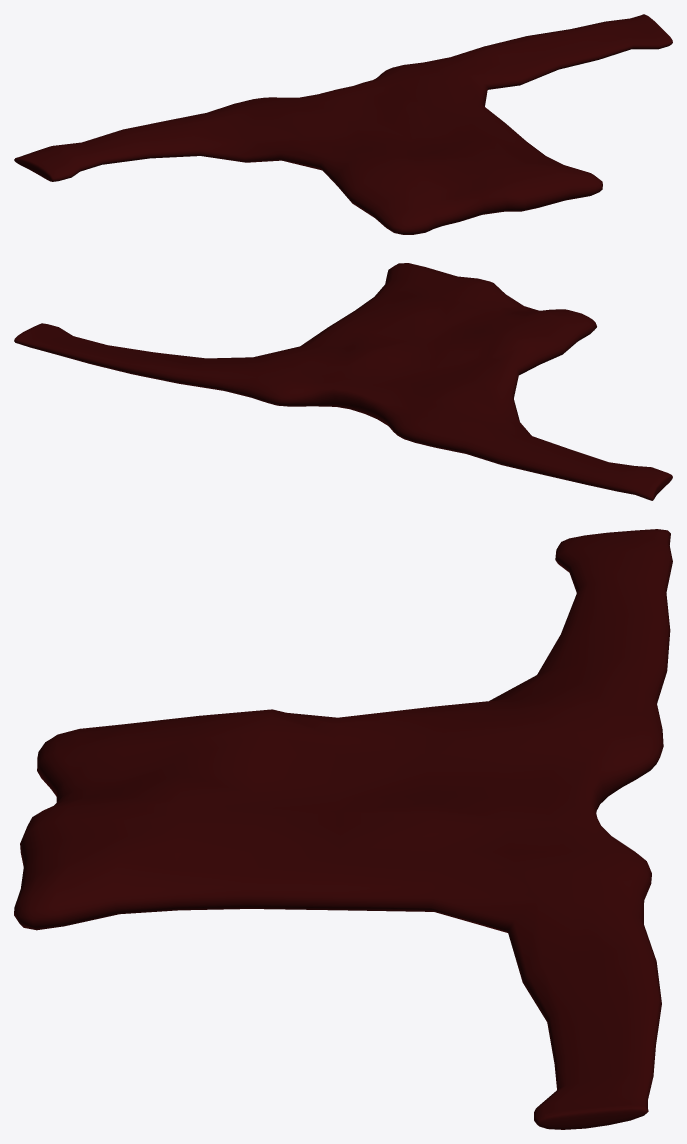
Rendered from Sweater.fbx.
3 views of the same model, one above another, from view 1: azimuth 30°, elevation 25°; view 2: azimuth 150°, elevation 25°; view 3: azimuth 270°, elevation 25° (orthographic). The views are drawn at different scales.
Visible parts, largest first — view 1: Sweater; view 2: Sweater; view 3: Sweater.
Boxes of the visible parts, x1,y1,x2,y2 form: Sweater: [14, 14, 672, 234]; Sweater: [14, 263, 672, 500]; Sweater: [14, 529, 672, 1129].
Size of the model in its own units: 94.58 by 5.33 by 45.87.
